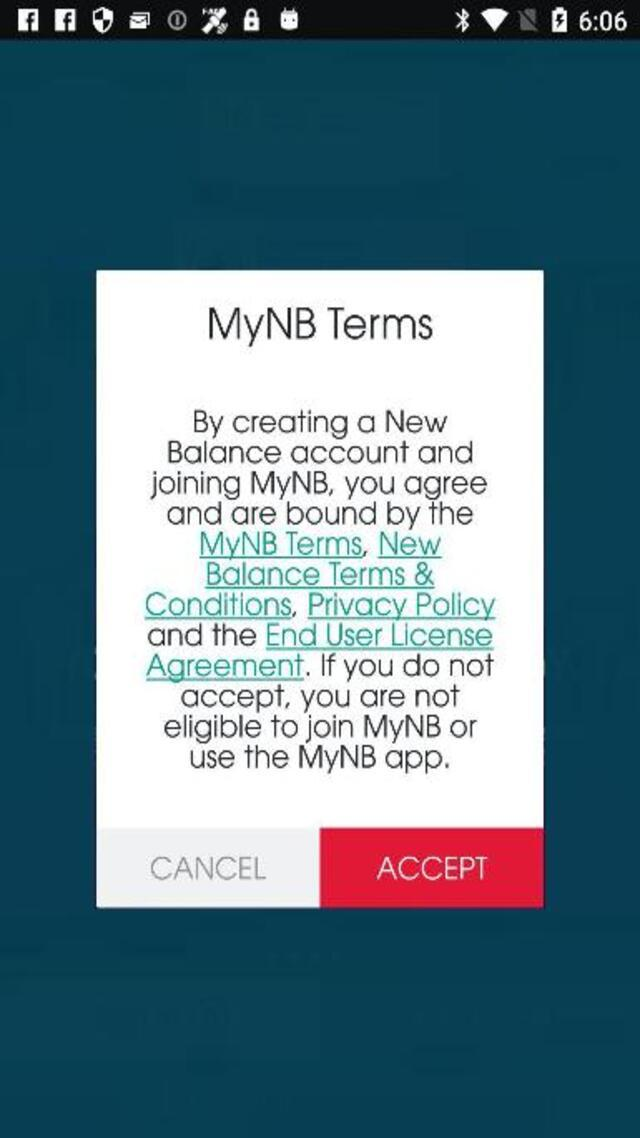Text: (144, 652, 502, 682), (146, 470, 492, 501), (139, 591, 500, 620), (142, 622, 496, 651), (209, 306, 433, 348), (160, 713, 481, 742), (184, 743, 451, 776), (166, 501, 476, 529), (184, 410, 466, 440), (175, 684, 470, 712), (162, 440, 478, 465), (193, 531, 444, 561), (202, 559, 438, 587), (142, 848, 268, 887), (375, 850, 493, 888)
TextButton: (320, 828, 544, 908), (96, 828, 320, 908)
